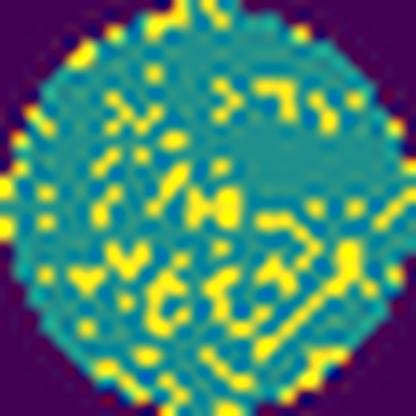Center: (143, 161, 246, 230)
